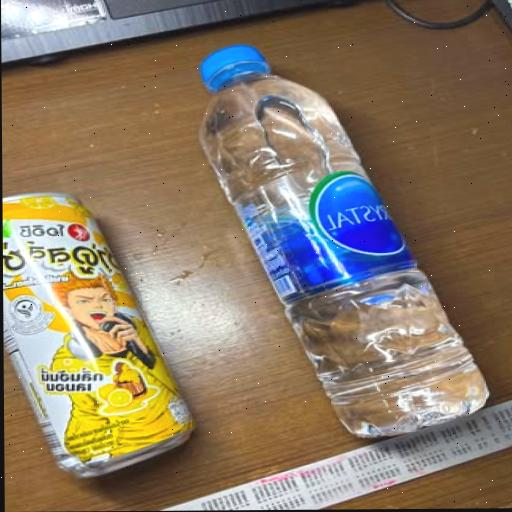ba: (184, 30, 504, 454)
bottle: (1, 150, 208, 500)
